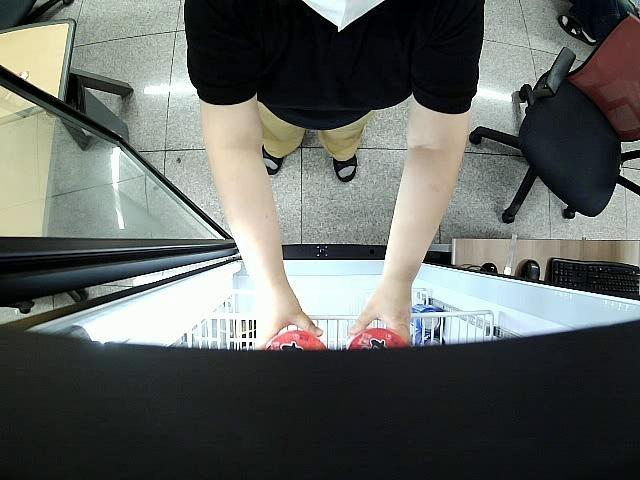02_shinRamen_S: (262, 329, 328, 354), (346, 327, 410, 350)
